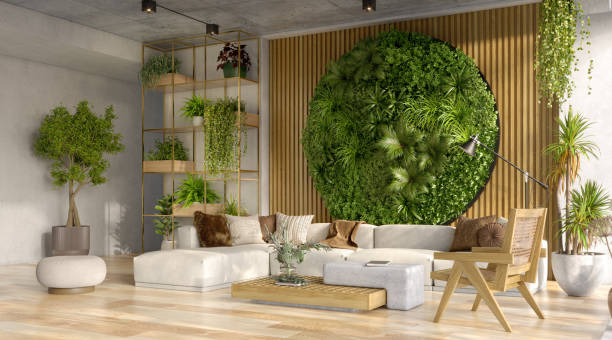chair: (429, 207, 548, 333)
floor lamp: (457, 132, 550, 208)
flower vase: (263, 228, 314, 289)
large plant: (30, 99, 125, 255), (547, 105, 607, 298)
small plant: (207, 92, 255, 170), (141, 135, 196, 174), (171, 176, 221, 217), (141, 55, 192, 88), (214, 40, 250, 79), (178, 93, 204, 125)
sofa: (134, 213, 516, 295)
table: (228, 258, 428, 316)
